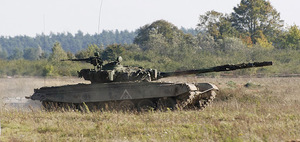t72: (27, 55, 278, 109)
